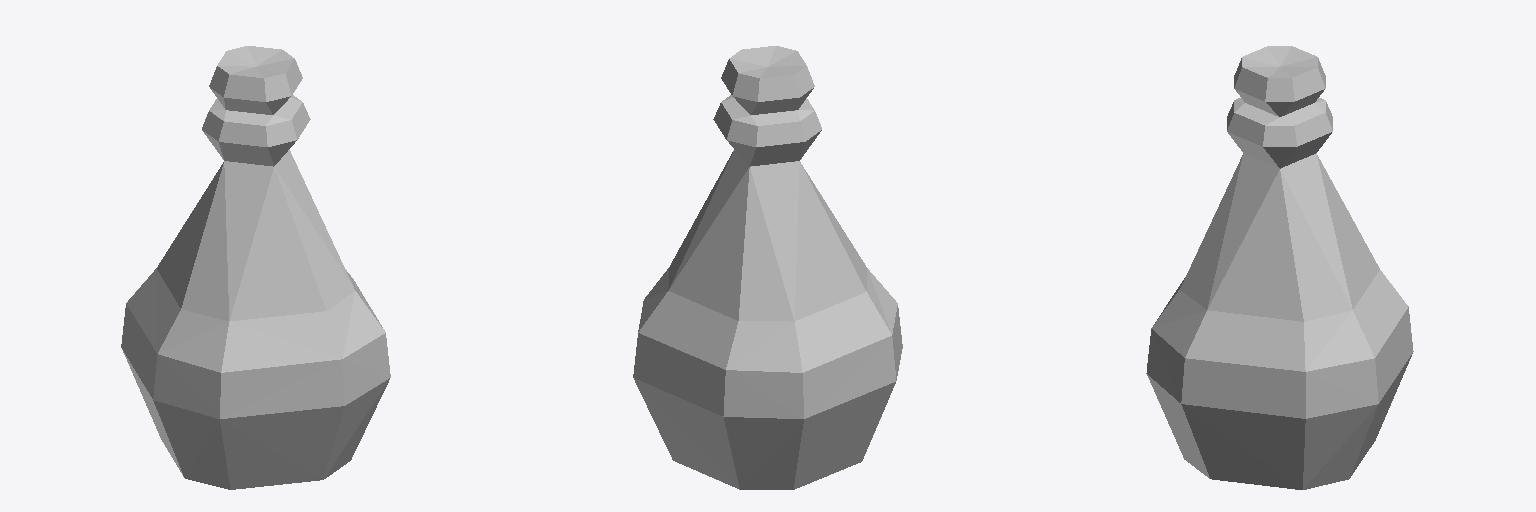
File: bottle_B_brown.gltf.obj
The picture shows the model from 3 angles: view 1: azimuth 30°, elevation 25°; view 2: azimuth 150°, elevation 25°; view 3: azimuth 270°, elevation 25°; orthographic projection.
Size of the model in its own units: 0.5528 by 0.8857 by 0.5528.